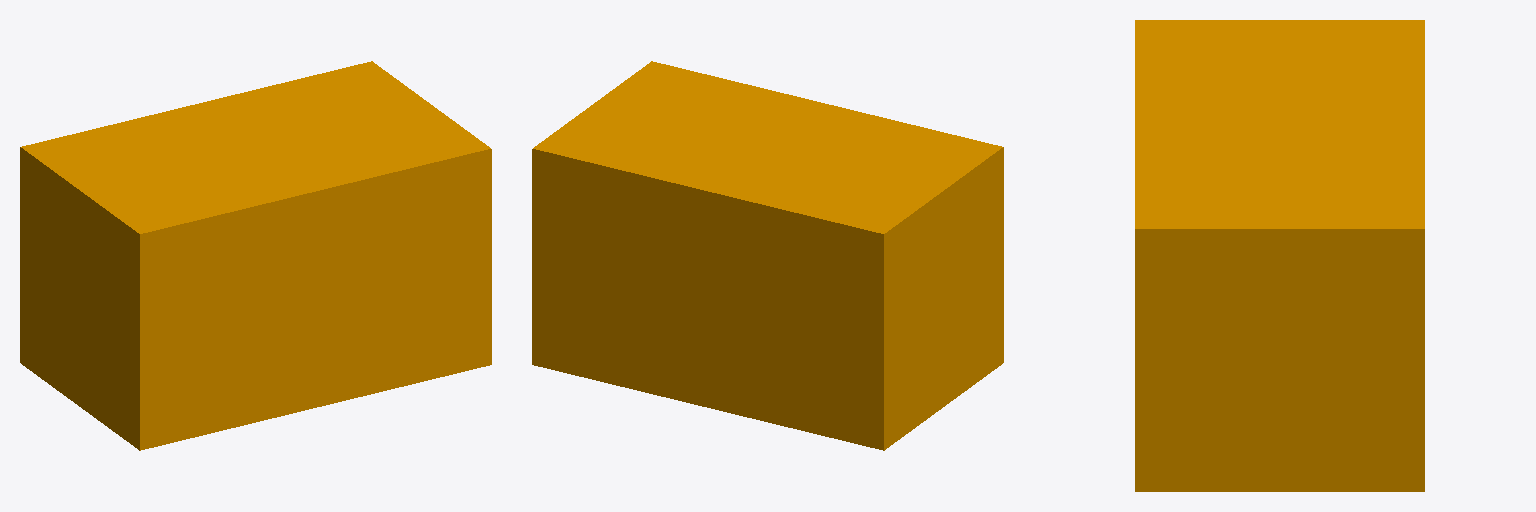
robot.urdf — cube.urdf:
<?xml version="1.0" ?>
<robot name="cube.urdf">
  <link name="cube">
    <contact>
      <lateral_friction value="1.0"/>
      <rolling_friction value="0.0"/>
      <contact_cfm value="0.0"/>
      <contact_erp value="1.0"/>
    </contact>
    <inertial>
      <origin rpy="0 0 0" xyz="0.0 0.02 0.0"/>
       <mass value="0.1"/>
       <inertia ixx="1" ixy="0" ixz="0" iyy="2" iyz="0" izz="2"/>
    </inertial>
    <visual>
      <origin rpy="0 0 0" xyz="0 0 0"/>
      <geometry>
        <box size="1.7 1 1"/>
      </geometry>
    </visual>
    <collision>
      <origin rpy="0 0 0" xyz="0 0 0"/>
      <geometry>
        <box size="1.7 1 1"/>
      </geometry>
    </collision>
  </link>
</robot>

--- Facts derived from the render (not from the file) ---
Views: 3 orthographic renders of the robot side by side, from view 1: azimuth 30°, elevation 25°; view 2: azimuth 150°, elevation 25°; view 3: azimuth 270°, elevation 25°.
Model cube.urdf with 1 links and 0 joints (none), rooted at cube, posed all joints at 0.
Visible links, largest first — view 1: cube; view 2: cube; view 3: cube.
Link boxes in pixels (x1,y1,x2,y2): cube: (20,61,491,450); cube: (532,61,1003,450); cube: (1135,20,1424,491).
Size in the robot's own frame: 1.7 by 1 by 1 metres.
Geometry: primitives only (box / cylinder / sphere), no mesh files.